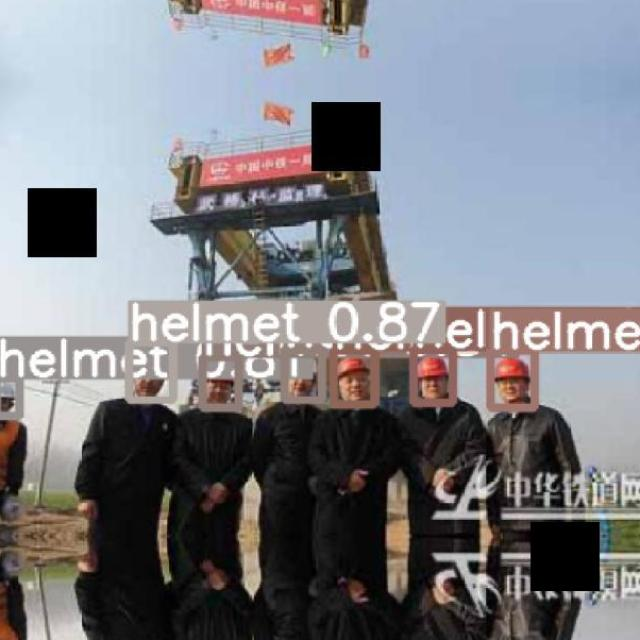helmet: (494, 357, 530, 381), (335, 356, 370, 378), (416, 356, 448, 379)
